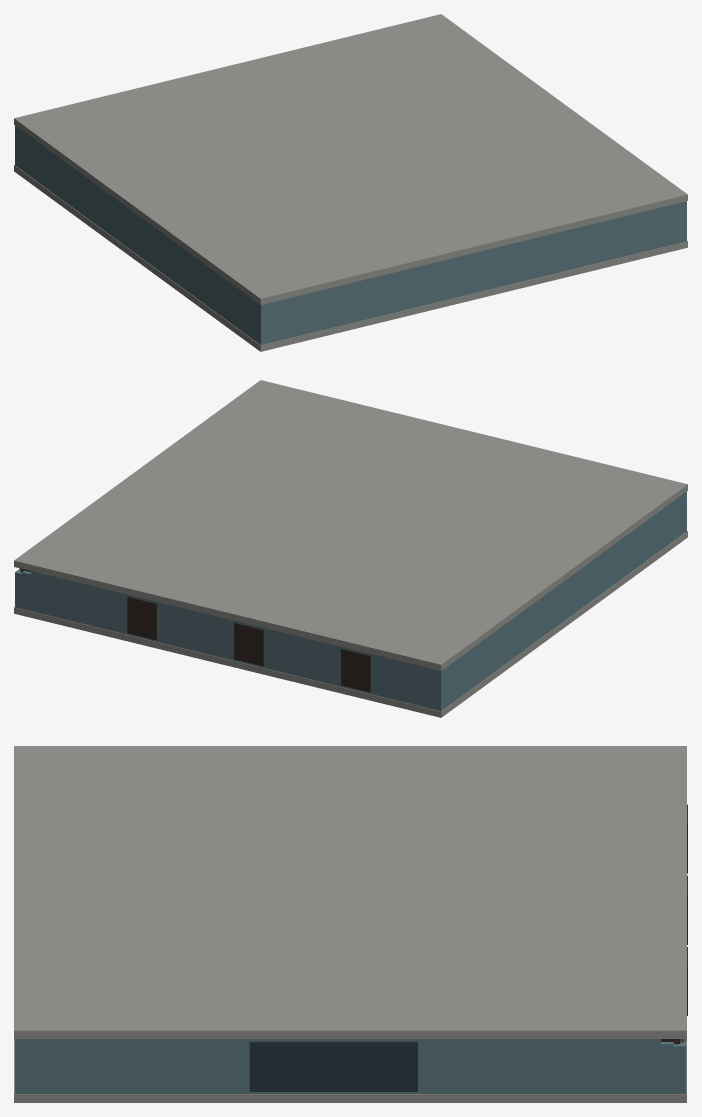
Rendered from tw_glass_32_floor_c_lod1.glb.
3 views of the same model, one above another, from view 1: azimuth 30°, elevation 25°; view 2: azimuth 150°, elevation 25°; view 3: azimuth 270°, elevation 25° (orthographic). The views are drawn at different scales.
Parts seen in each view (by area): view 1: tw_glass_32_floor_c_lod1; view 2: tw_glass_32_floor_c_lod1; view 3: tw_glass_32_floor_c_lod1.
Boxes of the visible parts, left/top/right/bottom form: tw_glass_32_floor_c_lod1: left=14, top=14, right=687, bottom=351; tw_glass_32_floor_c_lod1: left=14, top=380, right=687, bottom=717; tw_glass_32_floor_c_lod1: left=14, top=746, right=687, bottom=1102.
Size of the model in its own units: 32.04 by 3.8 by 32.04.
2 materials, 2 textured.
